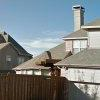Chimney: (64, 3, 87, 31)
